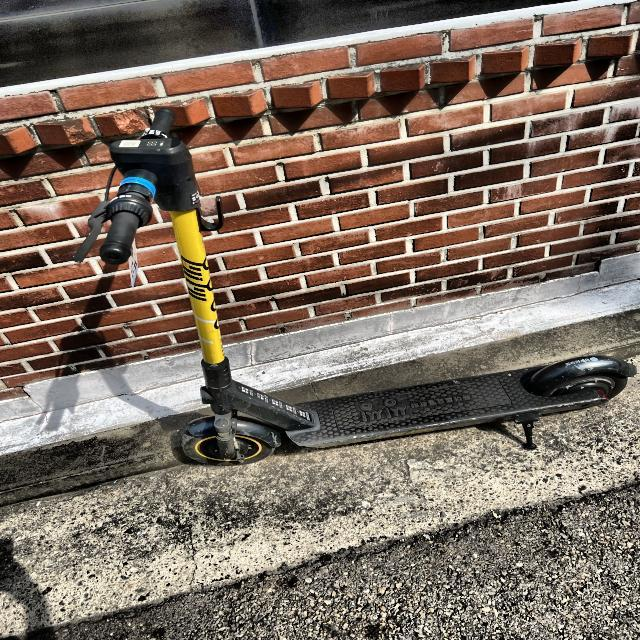bike: (71, 106, 636, 469)
